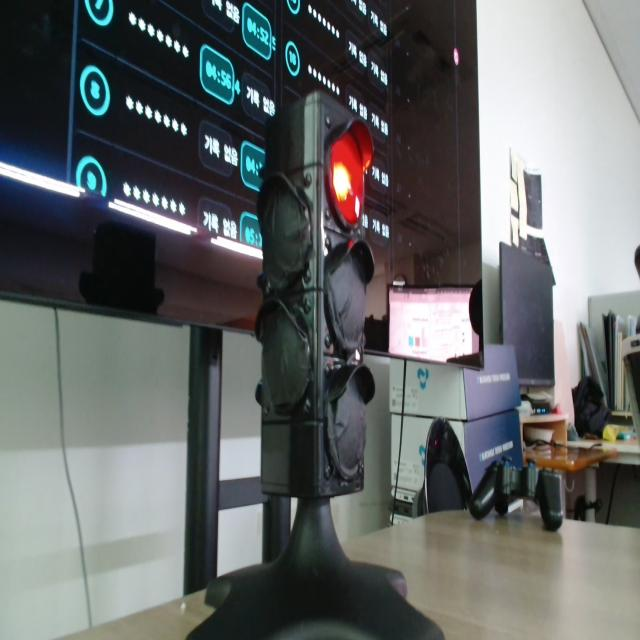red_light: (331, 123, 372, 226)
